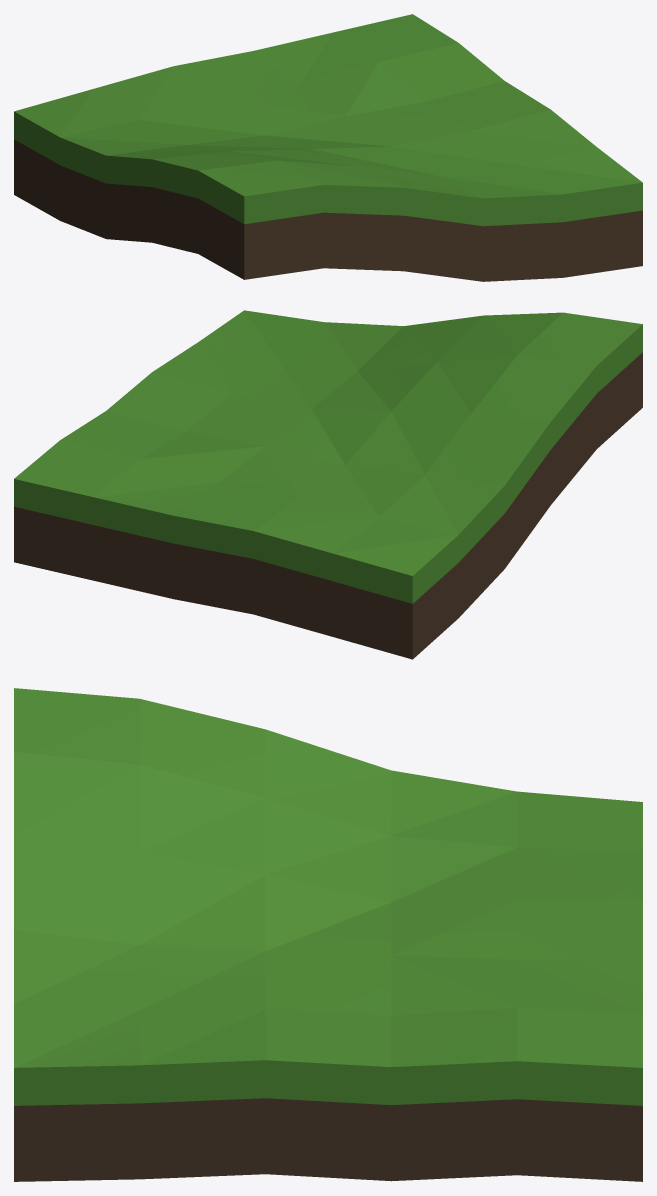
The model's file is terrains_terrain-world-hill4.fbx.
3 renders of one model, top to bottom at view 1: azimuth 30°, elevation 25°; view 2: azimuth 150°, elevation 25°; view 3: azimuth 270°, elevation 25°, orthographic. The views are drawn at different scales.
Parts seen in each view (by area): view 1: terrains_terrain_world_hill4; view 2: terrains_terrain_world_hill4; view 3: terrains_terrain_world_hill4.
Boxes of the visible parts, x1=… form: terrains_terrain_world_hill4: x1=14, y1=14, x2=642, y2=281; terrains_terrain_world_hill4: x1=14, y1=310, x2=642, y2=659; terrains_terrain_world_hill4: x1=14, y1=688, x2=642, y2=1181.
Bounding box in the file's own units: 200 × 80 × 200.
